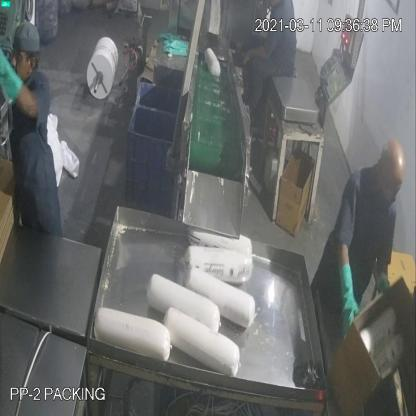glove: (334, 251, 368, 351)
no_glove: (239, 36, 274, 74)
